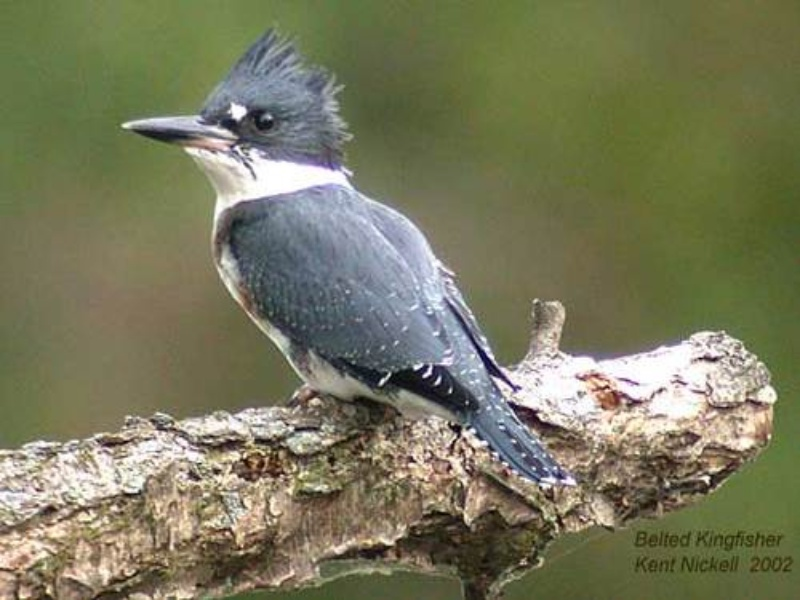kingfisher: (110, 17, 583, 494)
